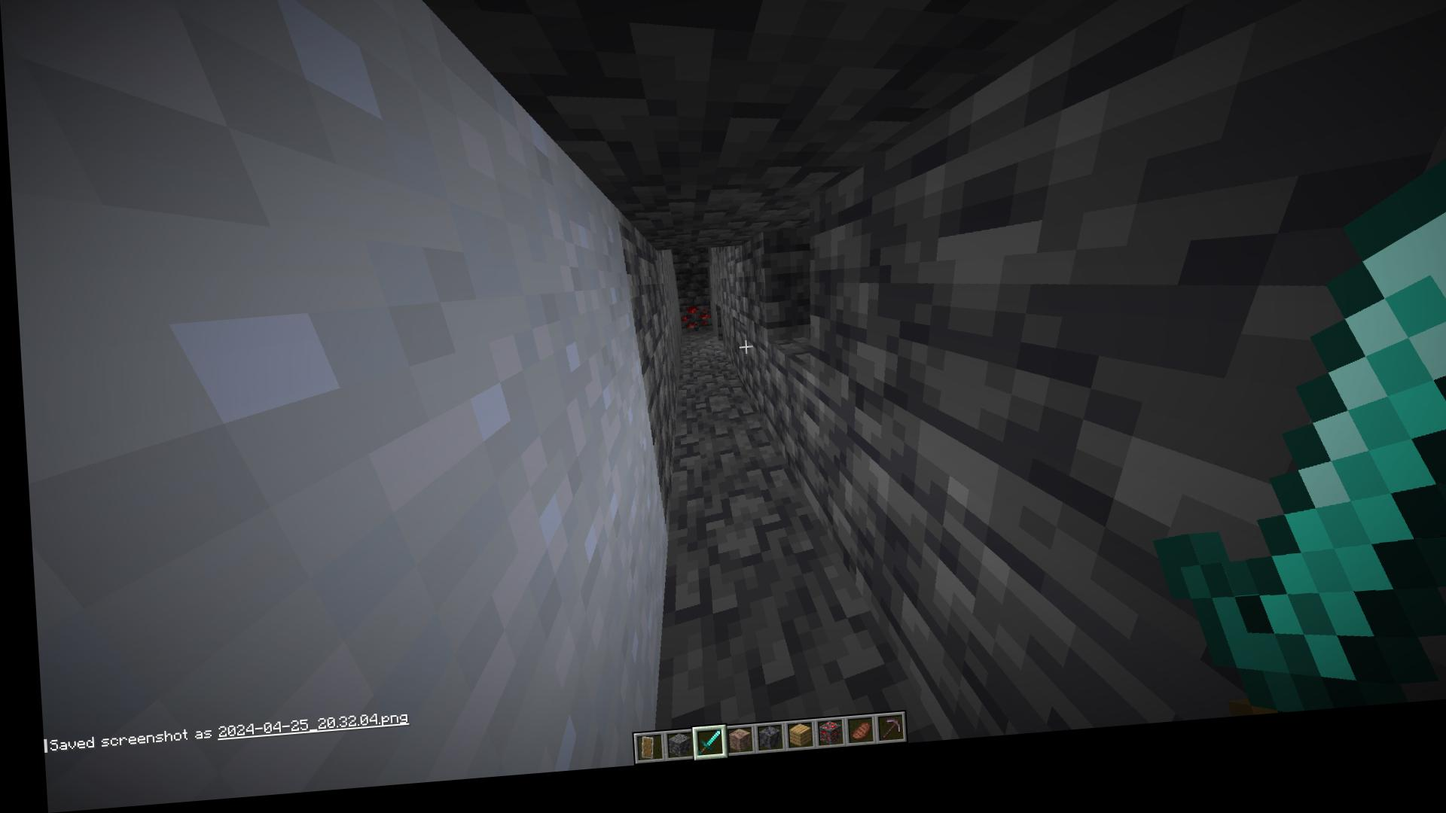redstone ore: (674, 314, 709, 345)
